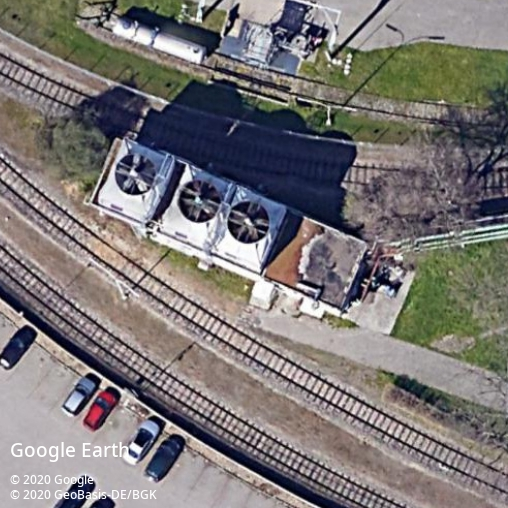Vent: (178, 180, 222, 223), (227, 201, 270, 243), (115, 154, 157, 196)
